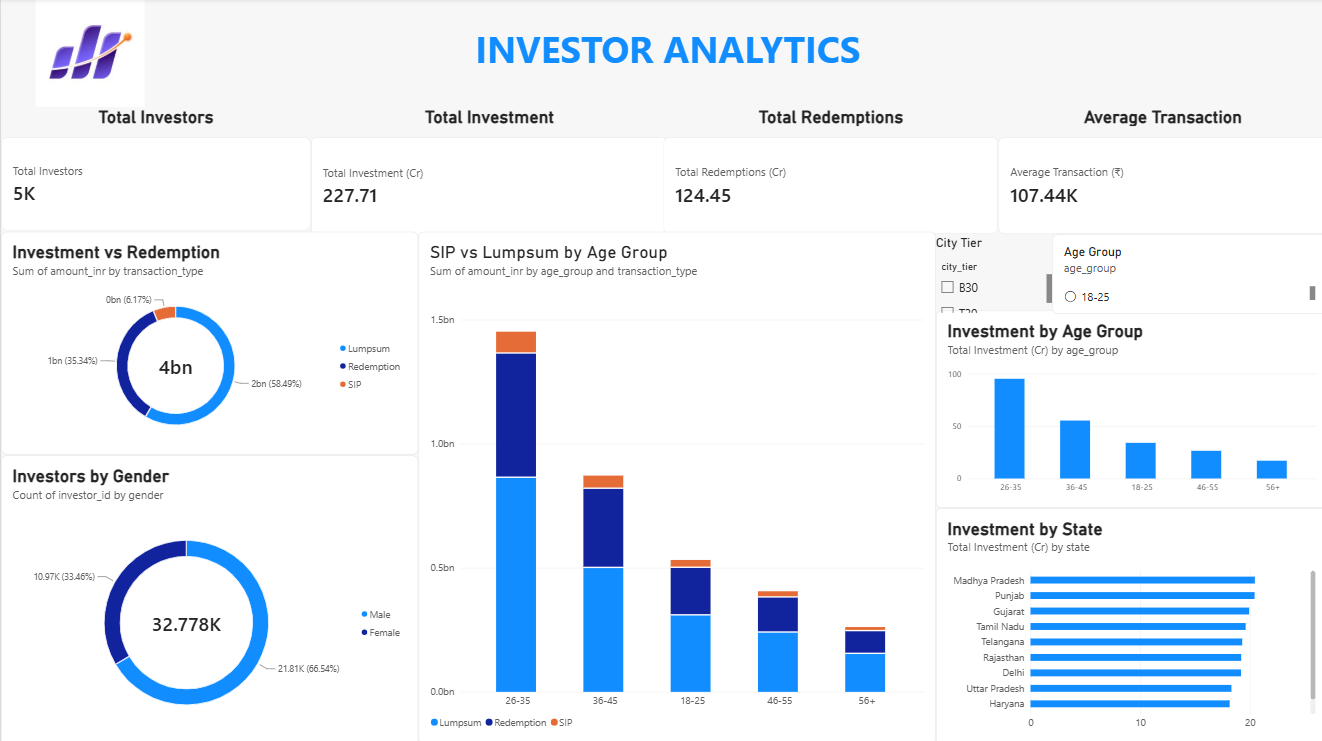

The dashboard page shown, as its layout file describes it:
{"tool":"powerbi","page":{"name":"Investor Analytics","canvas":[1920,1080],"ordinal":2},"visuals":[{"type":"textbox","box":[10.9,0,1909.2,157.4],"z":0},{"type":"cardVisual","title":"Total Investors","fields":{"Data":["08_investor_transactions_clean.Total Investors"]},"box":[0,157.5,448.8,179.2],"z":1000},{"type":"cardVisual","title":"Total Investment","fields":{"Data":["08_investor_transactions_clean.Total Investment (Cr)"]},"box":[448.5,157.5,517.1,185.3],"z":2000},{"type":"cardVisual","title":"Total Redemptions","fields":{"Data":["08_investor_transactions_clean.Total Redemptions (Cr)"]},"box":[959.1,157.4,485,184.6],"z":3000},{"type":"cardVisual","title":"Average Transaction","fields":{"Data":["08_investor_transactions_clean.Average Transaction (₹)"]},"box":[1444.1,157.4,475.9,184.6],"z":4000},{"type":"donutChart","title":"Investment vs Redemption","fields":{"Category":["08_investor_transactions_clean.transaction_type"],"Y":["Sum(08_investor_transactions_clean.amount_inr)"]},"box":[0,339.2,604.2,322.5],"z":5000},{"type":"clusteredColumnChart","title":"Investment by Age Group","fields":{"Category":["08_investor_transactions_clean.age_group"],"Y":["08_investor_transactions_clean.Total Investment (Cr)"]},"box":[1352.9,452.2,567.1,285.4],"z":6000},{"type":"barChart","title":"Investment by State","fields":{"Category":["08_investor_transactions_clean.state"],"Y":["08_investor_transactions_clean.Total Investment (Cr)"]},"box":[1352.9,737.6,567.1,342.9],"z":7000},{"type":"columnChart","title":"SIP vs Lumpsum by Age Group","fields":{"Category":["08_investor_transactions_clean.age_group"],"Series":["08_investor_transactions_clean.transaction_type"],"Y":["Sum(08_investor_transactions_clean.amount_inr)"]},"box":[604.2,339.2,748.7,741.3],"z":8000},{"type":"donutChart","title":"Investors by Gender","fields":{"Category":["08_investor_transactions_clean.gender"],"Y":["CountNonNull(08_investor_transactions_clean.investor_id)"]},"box":[0,661.6,604.2,418.8],"z":9000},{"type":"listSlicer","title":"Age Group","fields":{"Values":["08_investor_transactions_clean.age_group"]},"box":[1521.9,342,398.5,114.9],"z":10000},{"type":"slicer","title":"City Tier","fields":{"Values":["08_investor_transactions_clean.city_tier"]},"box":[1353.6,343.8,168.3,112.2],"z":11000},{"type":"image","box":[0,0,258.8,157.4],"z":12000}]}

Visuals, with their boxes in screenshot pixels (x1, y1, x2, y2), scaled from the page's 1920x1080 canvas onto the 1322x741 screenshot:
textbox: region(8, 0, 1321, 108)
"Total Investors" cardVisual: region(0, 108, 309, 231)
"Total Investment" cardVisual: region(309, 108, 665, 235)
"Total Redemptions" cardVisual: region(660, 108, 994, 235)
"Average Transaction" cardVisual: region(994, 108, 1321, 235)
"Investment vs Redemption" donutChart: region(0, 233, 416, 454)
"Investment by Age Group" clusteredColumnChart: region(932, 310, 1321, 506)
"Investment by State" barChart: region(932, 506, 1321, 740)
"SIP vs Lumpsum by Age Group" columnChart: region(416, 233, 932, 740)
"Investors by Gender" donutChart: region(0, 454, 416, 740)
"Age Group" listSlicer: region(1048, 235, 1321, 313)
"City Tier" slicer: region(932, 236, 1048, 313)
image: region(0, 0, 178, 108)
